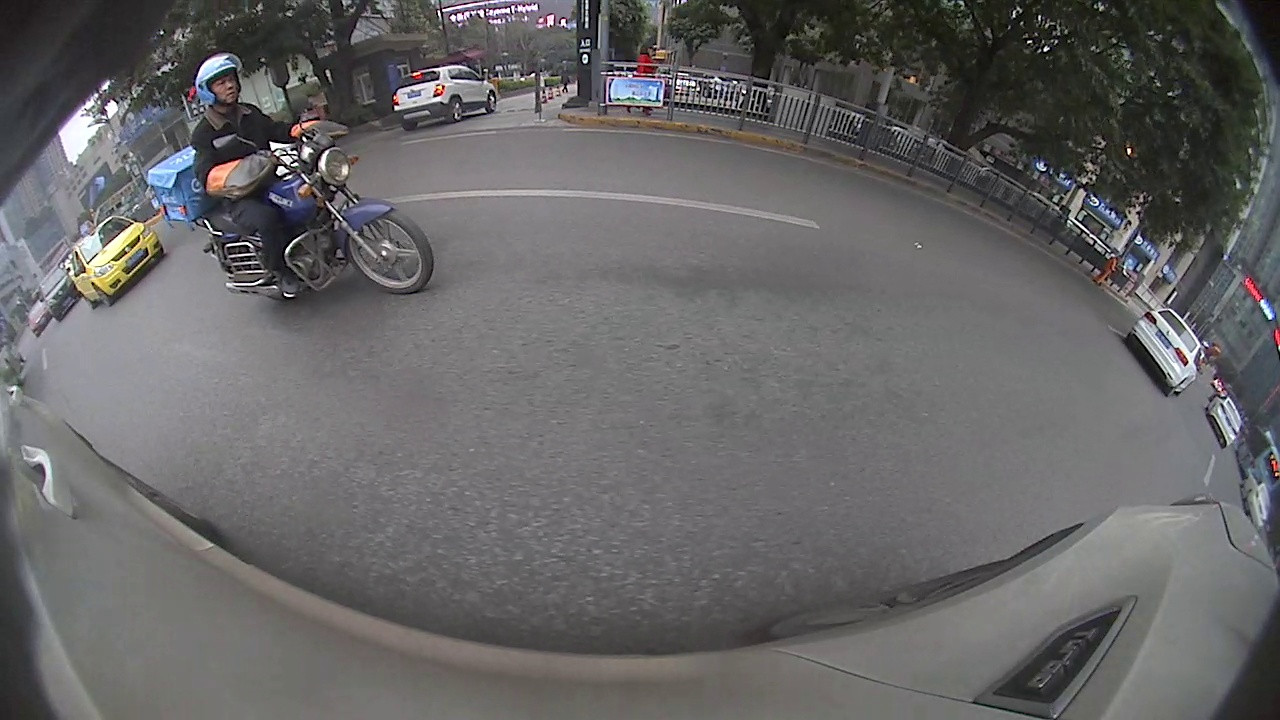car: (71, 214, 164, 309), (389, 64, 499, 132), (1126, 306, 1203, 399), (1204, 393, 1245, 449)
front: (344, 211, 432, 296), (484, 89, 500, 116)
rear: (444, 93, 465, 125)
rider: (146, 52, 435, 302)
